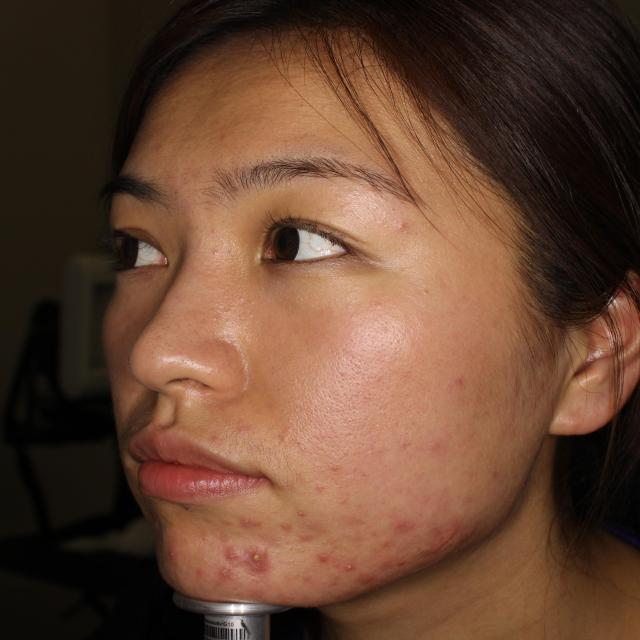acne: (415, 537, 446, 563), (431, 518, 465, 540), (355, 566, 380, 593), (215, 557, 237, 584), (248, 542, 268, 567), (385, 515, 410, 535), (309, 545, 330, 568), (236, 509, 261, 527), (335, 550, 354, 570), (219, 543, 240, 559)
